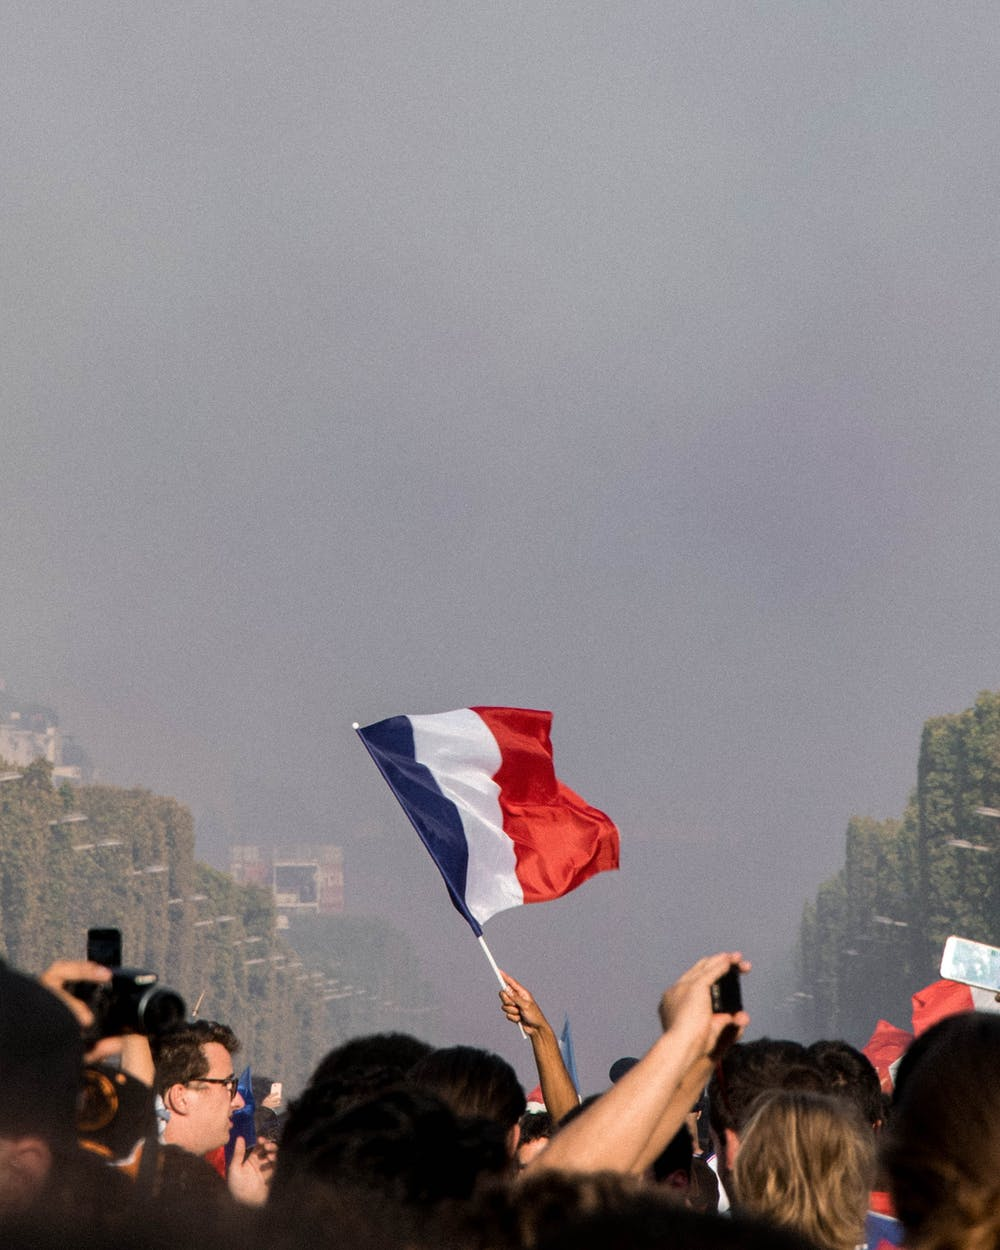Flag: (339, 704, 623, 939)
